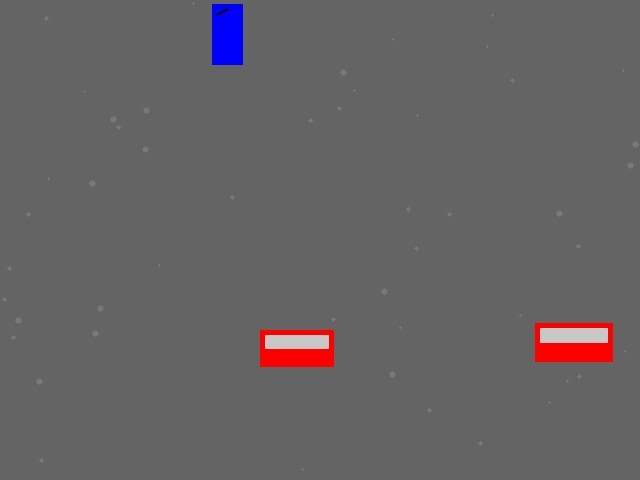car: (535, 323, 612, 361), (260, 330, 333, 366)
motorcycle: (212, 4, 242, 64)
